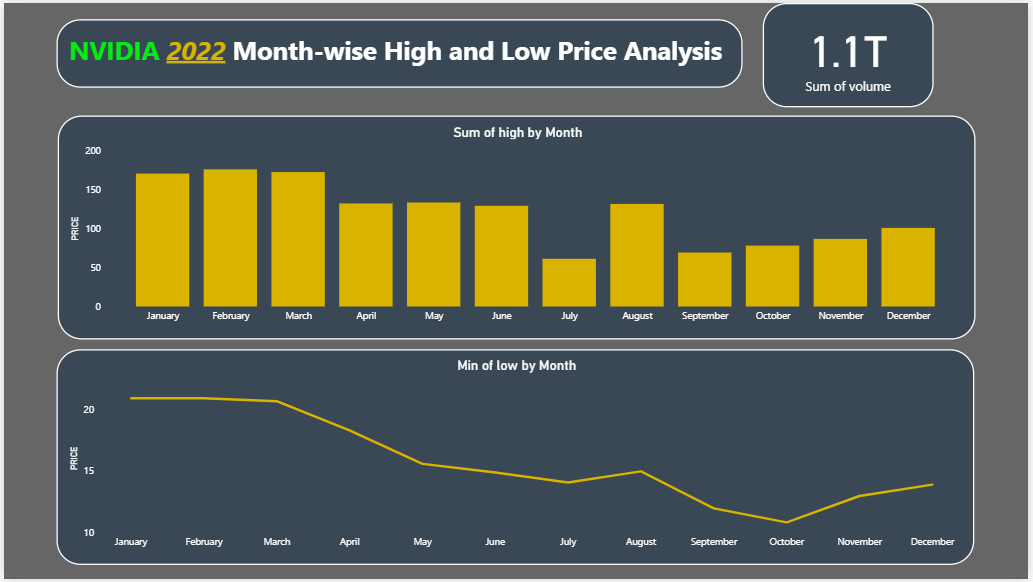

Layout of this report page (visuals, bound fields, positions):
{"tool":"powerbi","page":{"name":"Page 3","canvas":[1280,720],"ordinal":2},"visuals":[{"type":"lineChart","fields":{"Category":["nvidia_stock_2015_to_2024.date.Variation.Date Hierarchy.Month"],"Y":["Min(nvidia_stock_2015_to_2024.low)"]},"box":[66.3,433.1,1147.2,269.9],"z":0},{"type":"textbox","box":[66.3,20.9,857.7,85.9],"z":1},{"type":"card","fields":{"Values":["Sum(nvidia_stock_2015_to_2024.volume)"]},"box":[948.5,0,213.5,130.1],"z":2},{"type":"lineStackedColumnComboChart","fields":{"Category":["nvidia_stock_2015_to_2024.date.Variation.Date Hierarchy.Month"],"Y":["Sum(nvidia_stock_2015_to_2024.high)"]},"box":[67.5,141.1,1147.2,279.8],"z":3}]}

Visuals, with their boxes in screenshot pixels (x1, y1, x2, y2), scaled from the page's 1280x720 canvas onto the 1033x582 screenshot:
lineChart - nvidia_stock_2015_to_2024.date.Variation.Date Hierarchy.Month x Min(nvidia_stock_2015_to_2024.low): [left=54, top=350, right=979, bottom=568]
textbox: [left=54, top=17, right=746, bottom=86]
card - Sum(nvidia_stock_2015_to_2024.volume): [left=765, top=0, right=938, bottom=105]
lineStackedColumnComboChart - nvidia_stock_2015_to_2024.date.Variation.Date Hierarchy.Month x Sum(nvidia_stock_2015_to_2024.high): [left=54, top=114, right=980, bottom=340]
